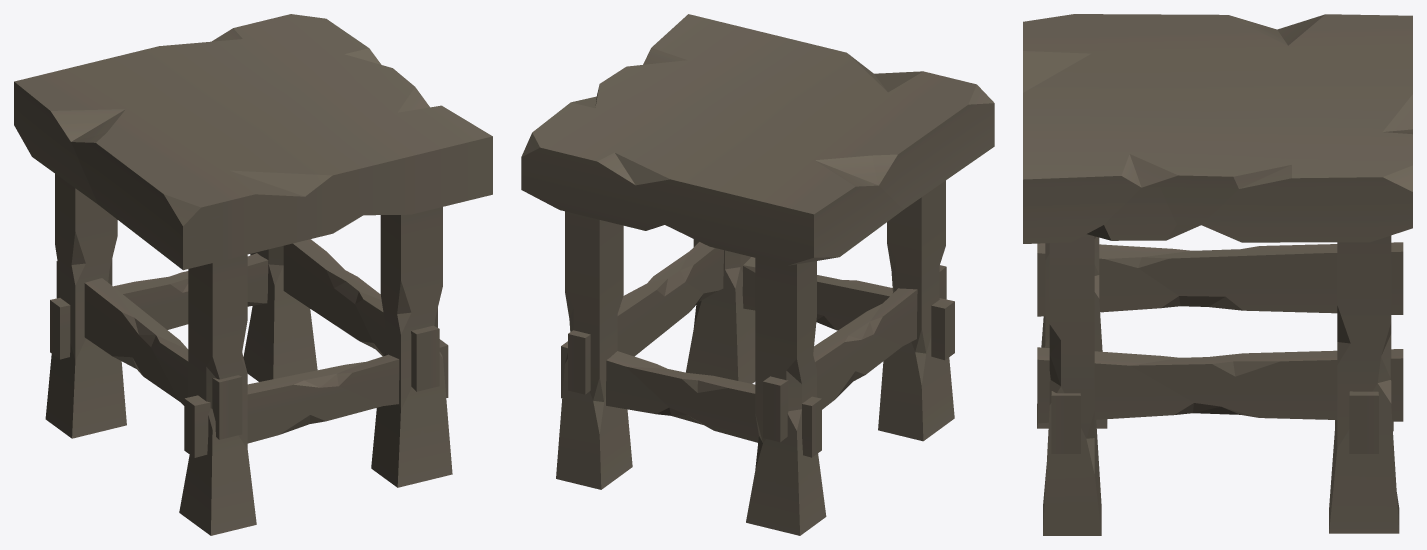
Rendered from SM_Stool.FBX.
The picture shows the model from 3 angles, left to right: view 1: azimuth 30°, elevation 25°; view 2: azimuth 150°, elevation 25°; view 3: azimuth 270°, elevation 25°; orthographic projection. The views are drawn at different scales.
Parts seen in each view (by area): view 1: SM_Stool; view 2: SM_Stool; view 3: SM_Stool.
Boxes of the visible parts, box(x1,y1,x2,y2) form: SM_Stool: box(14, 14, 492, 535); SM_Stool: box(521, 14, 994, 535); SM_Stool: box(1023, 14, 1412, 535).
Size of what is drawn, in the model's own units: 51.26 by 50.4 by 53.29.
